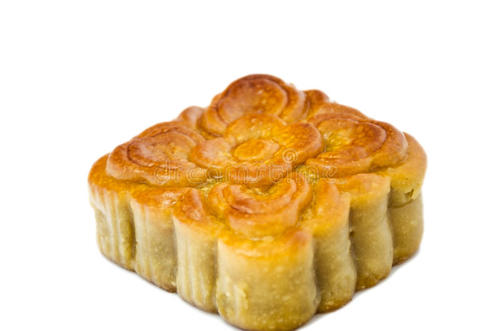MoonCake: (87, 72, 427, 330)
